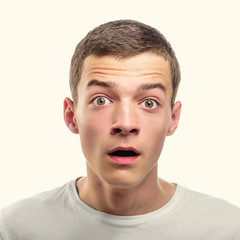teen: (66, 33, 174, 181)
